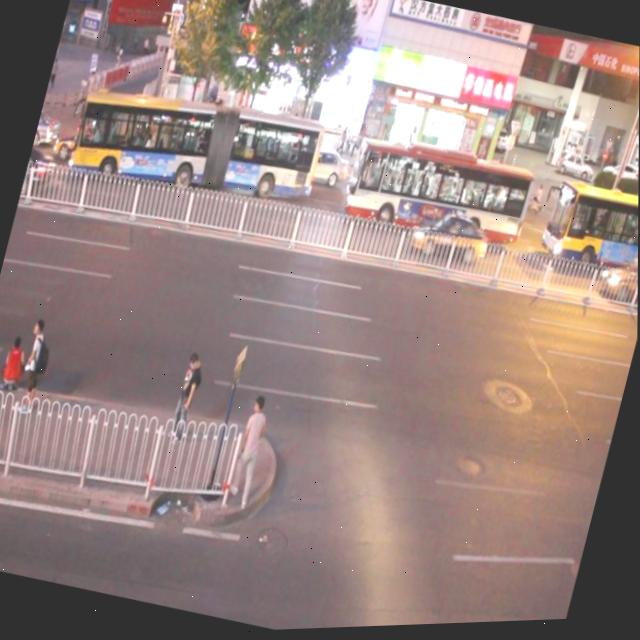car: (407, 206, 492, 272), (50, 119, 120, 177), (195, 123, 252, 178), (291, 141, 350, 194), (595, 248, 638, 311), (19, 149, 52, 202), (32, 108, 62, 152)
van: (66, 67, 328, 226), (338, 128, 536, 263), (535, 174, 639, 293)
